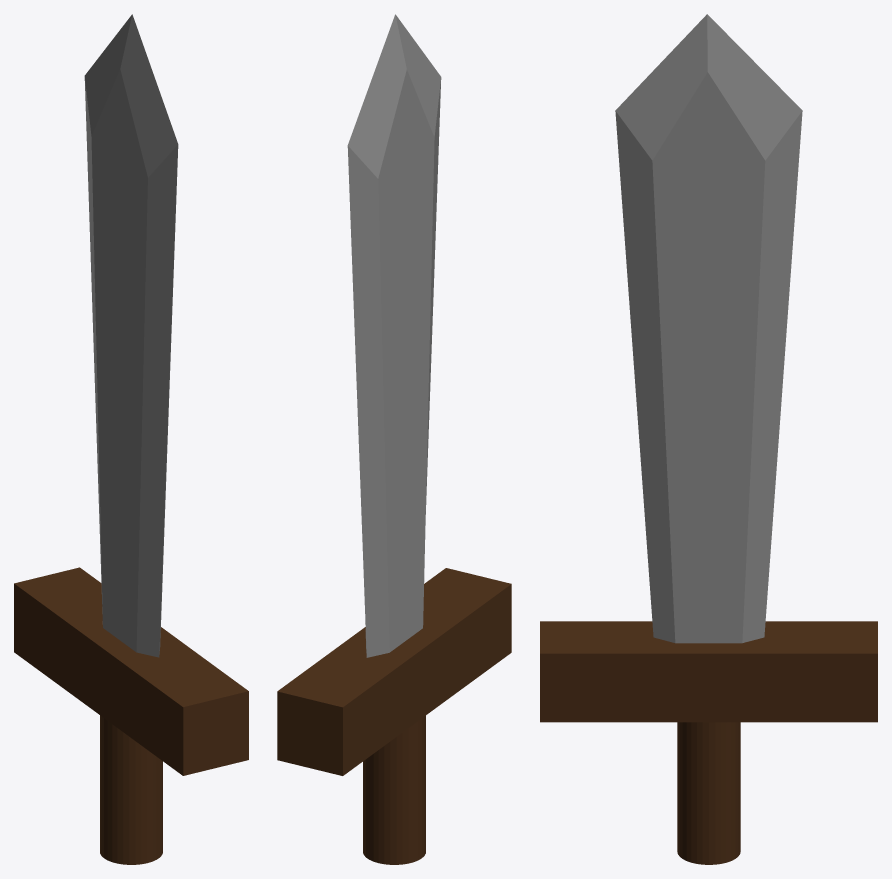
File: Stone Sword.fbx
3 renders of one model, left to right at view 1: azimuth 30°, elevation 25°; view 2: azimuth 150°, elevation 25°; view 3: azimuth 270°, elevation 25°, orthographic.
Visible parts, largest first — view 1: Cylinder.025; view 2: Cylinder.025; view 3: Cylinder.025.
Boxes of the visible parts, x1=… form: Cylinder.025: x1=14, y1=14, x2=248, y2=864; Cylinder.025: x1=277, y1=14, x2=511, y2=864; Cylinder.025: x1=540, y1=14, x2=877, y2=864.
Bounding box in the file's own units: 4.18 × 50.89 × 18.61.
